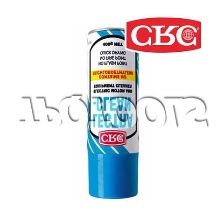aerosol_cans: (83, 26, 141, 202)
